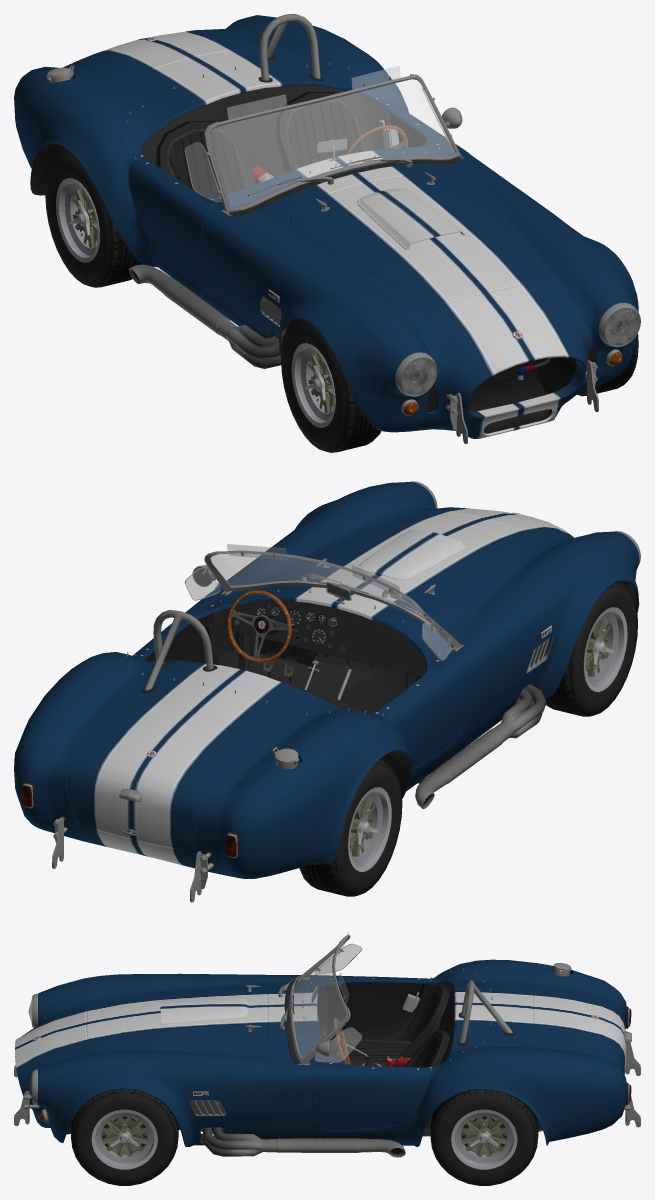
The model's file is gt_cobra_hi.glb.
3 views of the same model, one above another, from view 1: azimuth 30°, elevation 25°; view 2: azimuth 150°, elevation 25°; view 3: azimuth 270°, elevation 25° (orthographic). The views are drawn at different scales.
Parts seen in each view (by area): view 1: Object_62, Object_54, Object_80, Object_50, Object_58, Object_64, Object_56, WHEEL_RF_TIRE, WHEEL_RR_TIRE, Object_38, WHEEL_RF_RIM, WHEEL_RR_RIM (+10 smaller); view 2: Object_62, Object_38, Object_80, Object_54, Object_58, Object_64, WHEEL_RF_TIRE, Object_50, WHEEL_RR_TIRE, WHEEL_RF_RIM, WHEEL_RR_RIM, Object_102 (+7 smaller); view 3: Object_62, Object_54, Object_58, Object_84, Object_80, WHEEL_LR_TIRE, WHEEL_LF_TIRE, Object_38, Object_100, Object_50, WHEEL_LF_RIM, WHEEL_LR_RIM (+5 smaller).
Boxes of the visible parts, x1=… form: Object_62: x1=14, y1=15, x2=638, y2=438; Object_54: x1=289, y1=174, x2=536, y2=306; Object_80: x1=142, y1=85, x2=408, y2=193; Object_50: x1=211, y1=79, x2=454, y2=207; Object_58: x1=46, y1=14, x2=640, y2=415; Object_64: x1=129, y1=157, x2=219, y2=284; Object_56: x1=30, y1=143, x2=576, y2=433; WHEEL_RF_TIRE: x1=281, y1=318, x2=380, y2=452; WHEEL_RR_TIRE: x1=45, y1=150, x2=144, y2=287; Object_38: x1=72, y1=29, x2=257, y2=78; WHEEL_RF_RIM: x1=291, y1=343, x2=335, y2=427; WHEEL_RR_RIM: x1=56, y1=178, x2=99, y2=262; Object_62: x1=14, y1=482, x2=639, y2=878; Object_38: x1=67, y1=703, x2=257, y2=849; Object_80: x1=144, y1=590, x2=425, y2=713; Object_54: x1=289, y1=511, x2=535, y2=612; Object_58: x1=22, y1=481, x2=640, y2=874; Object_64: x1=377, y1=657, x2=472, y2=767; WHEEL_RF_TIRE: x1=545, y1=581, x2=637, y2=716; Object_50: x1=211, y1=553, x2=436, y2=629; WHEEL_RR_TIRE: x1=299, y1=759, x2=402, y2=896; WHEEL_RF_RIM: x1=583, y1=607, x2=627, y2=691; WHEEL_RR_RIM: x1=347, y1=787, x2=391, y2=871; Object_102: x1=144, y1=614, x2=238, y2=663; Object_62: x1=15, y1=959, x2=626, y2=1146; Object_54: x1=86, y1=985, x2=267, y2=1050; Object_58: x1=24, y1=934, x2=630, y2=1157; Object_84: x1=311, y1=1058, x2=429, y2=1130; Object_80: x1=317, y1=983, x2=454, y2=1067; WHEEL_LR_TIRE: x1=430, y1=1089, x2=538, y2=1185; WHEEL_LF_TIRE: x1=71, y1=1089, x2=178, y2=1185; Object_38: x1=533, y1=987, x2=626, y2=1074; Object_100: x1=324, y1=982, x2=422, y2=1036; Object_50: x1=293, y1=945, x2=345, y2=1057; WHEEL_LF_RIM: x1=91, y1=1109, x2=157, y2=1169; WHEEL_LR_RIM: x1=451, y1=1109, x2=517, y2=1169.
Size of the model in its own units: 1.78 by 1.24 by 3.99.
10 materials, 9 textured.
